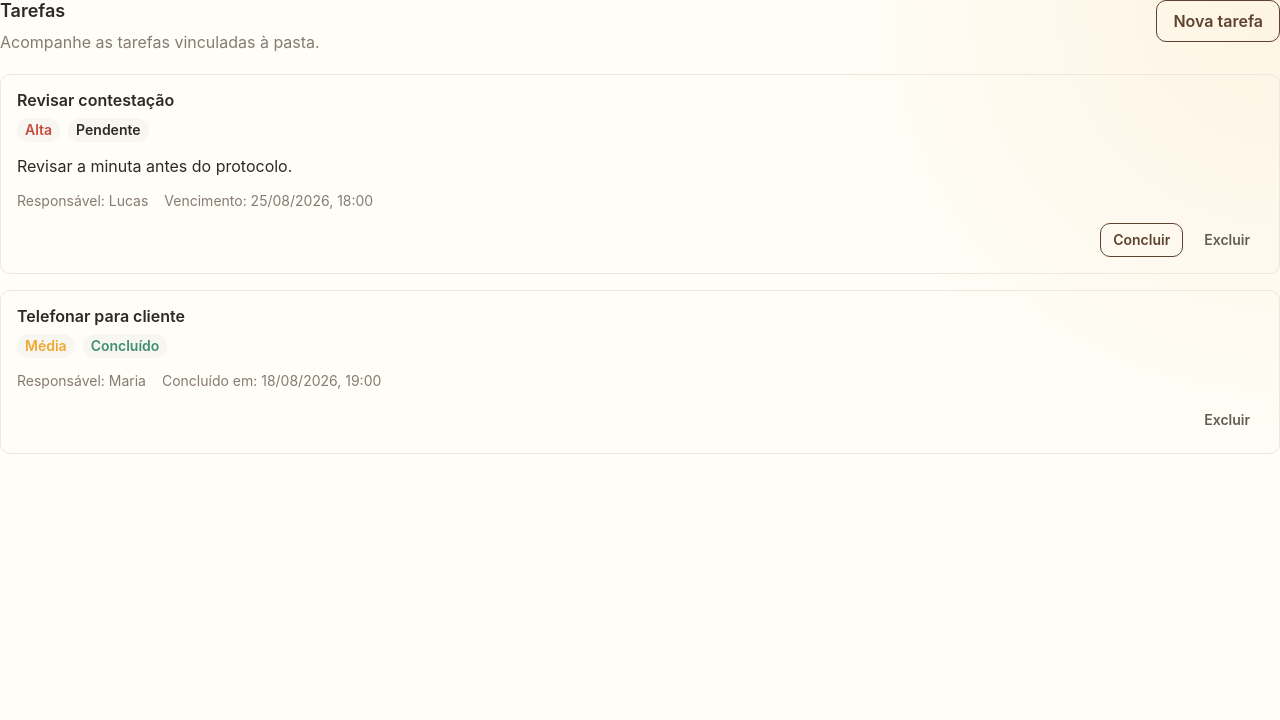
Test: FolderTasks › mantém confirmação aberta quando exclusão falha
Click the 1st button "Excluir" at (1227, 240), box left=1191, top=223, right=1263, bottom=257
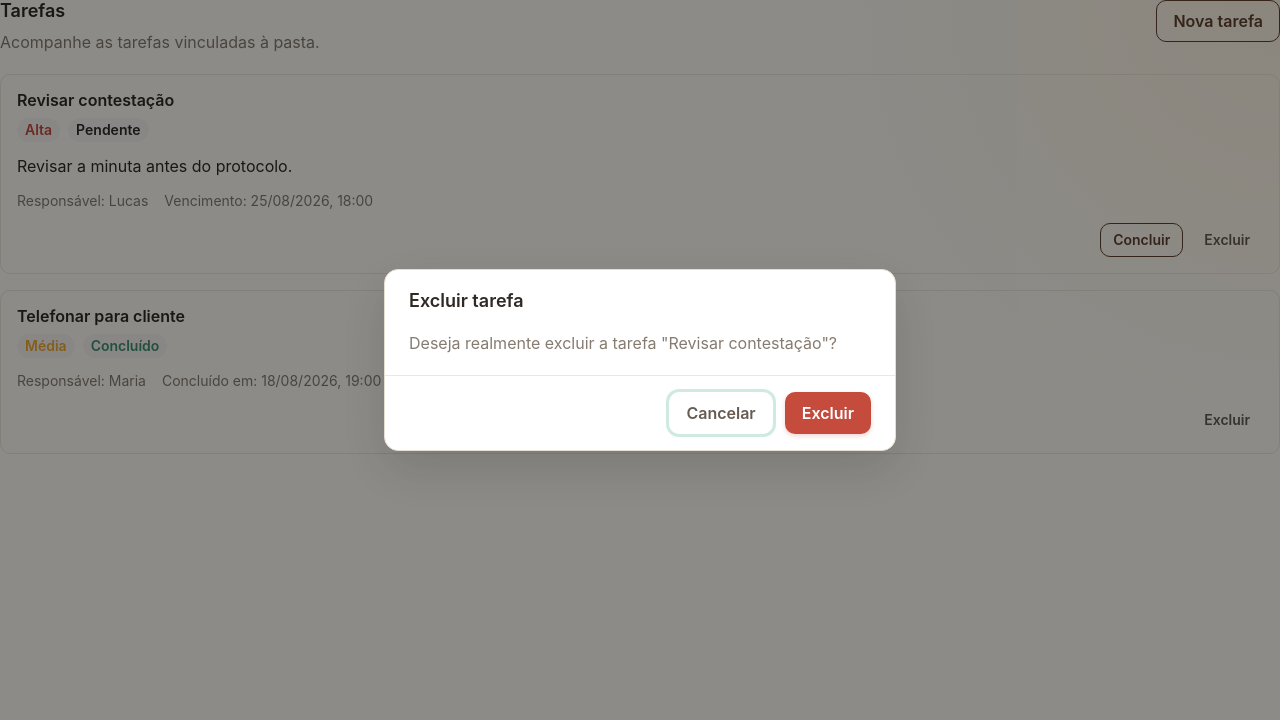
expect the button "Excluir" is shown: met
Click the button "Excluir" at (828, 413), box left=785, top=392, right=871, bottom=434
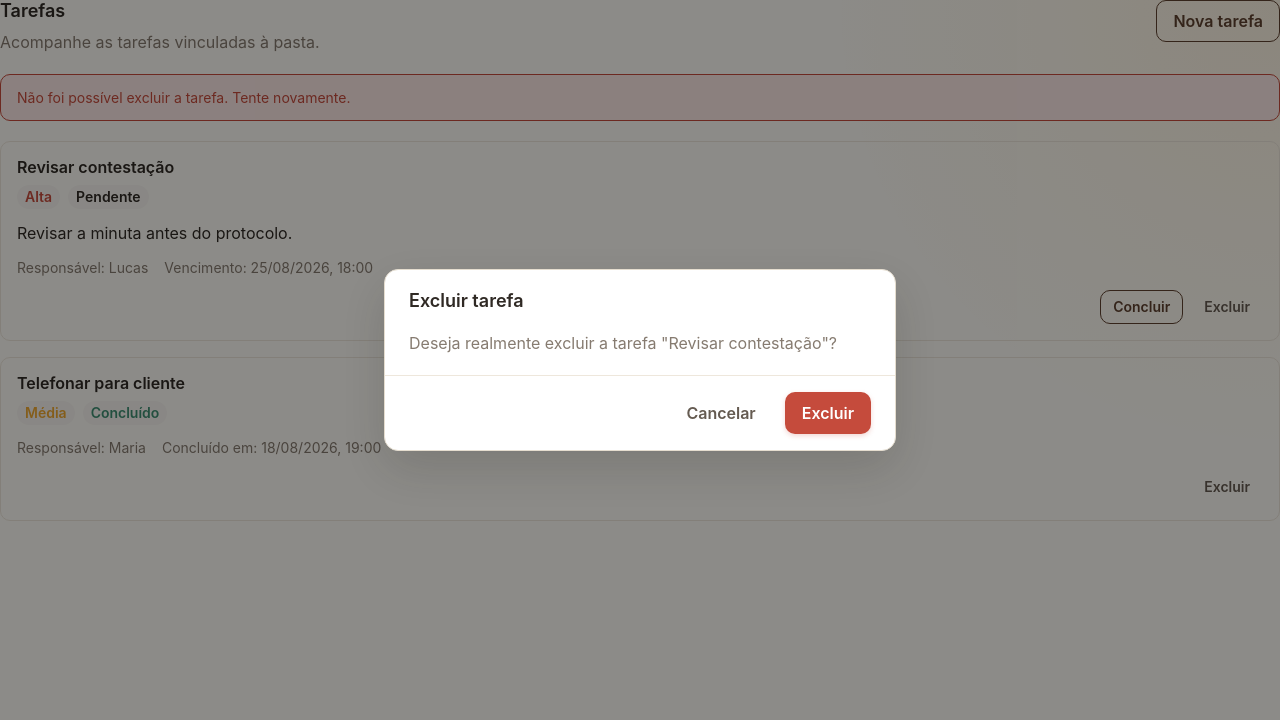
expect the element with class "app-confirm-dialog" is shown: met
expect the text "Não foi possível excluir a tarefa. Tente novamente." is shown: met, box left=0, top=74, right=1279, bottom=121
